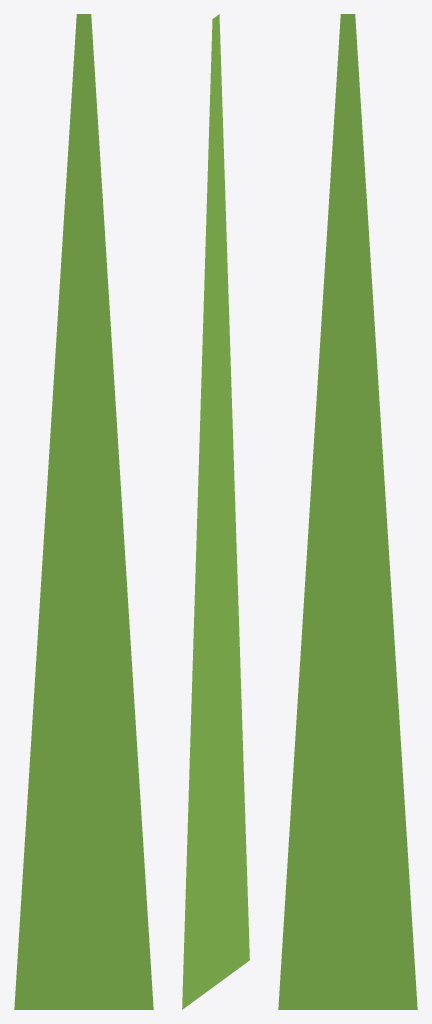
File: grass.fbx
3 renders of one model, left to right at view 1: azimuth 90°, elevation 25°; view 2: azimuth 150°, elevation 25°; view 3: azimuth 270°, elevation 25°, orthographic. The views are drawn at different scales.
Visible parts, largest first — view 1: Plane.005; view 2: Plane.005; view 3: Plane.005.
Boxes of the visible parts, <box> form: Plane.005: <box>14,14,153,1009</box>; Plane.005: <box>182,14,249,1009</box>; Plane.005: <box>278,14,417,1009</box>.
Size of the model in its own units: 4.08e-05 by 200 by 25.37.
